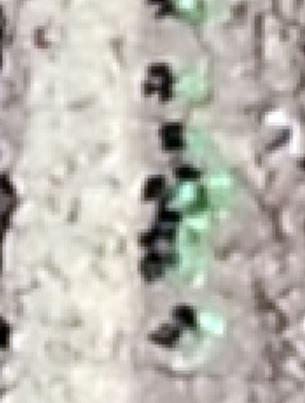cotton: (203, 169, 233, 203), (171, 185, 205, 212), (179, 235, 201, 271), (176, 2, 217, 19), (180, 213, 212, 234), (174, 75, 204, 97), (184, 127, 207, 151), (198, 313, 221, 333)
